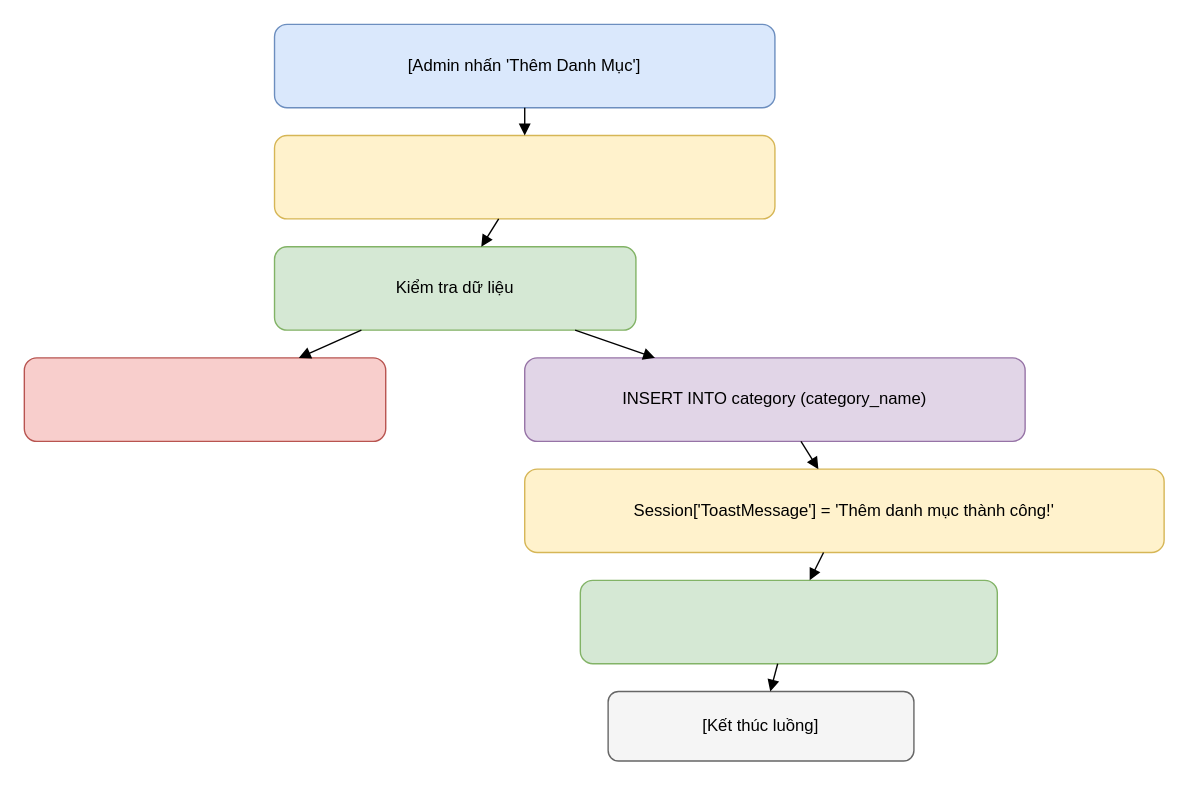
The diagram is 1188 pixels wide and 785 high, and some of its shapes have lost their labels. Here are the shapes that lost their labels. From the top down, the centre of each, then its label:
point (524, 176): Nhập tên danh mục → Nhấn Lưu
point (204, 399): Nếu trống → Báo lỗi
point (788, 621): Chuyển về Category.aspx
